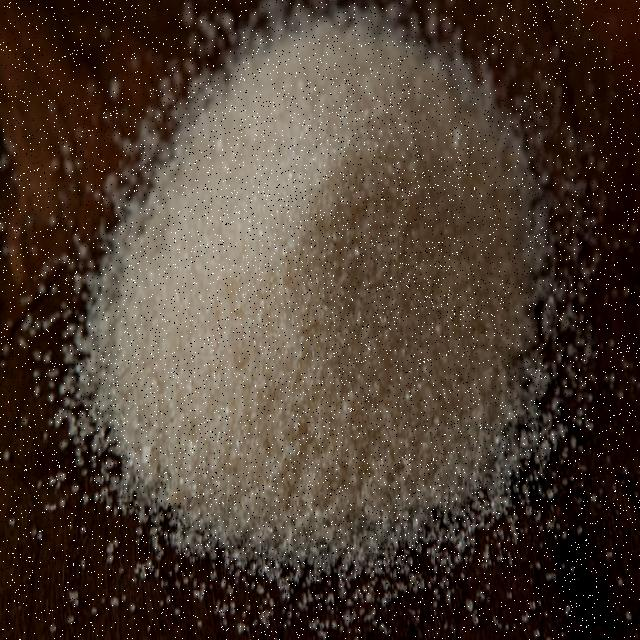Sugar: (175, 80, 563, 538)
